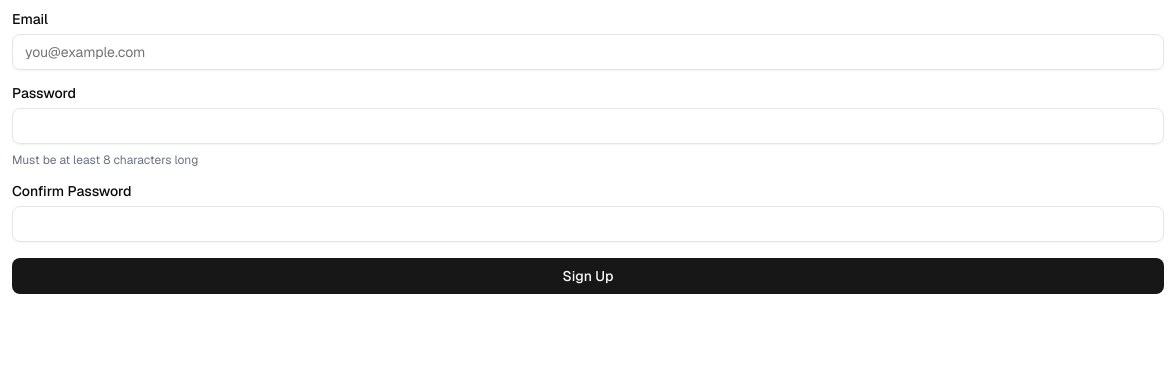
SignUpForm — error handling › displays server error on failure
In the password field labelled "Password": {"x": 588, "y": 126} left=12, top=108, right=1164, bottom=144, type "pass1234"
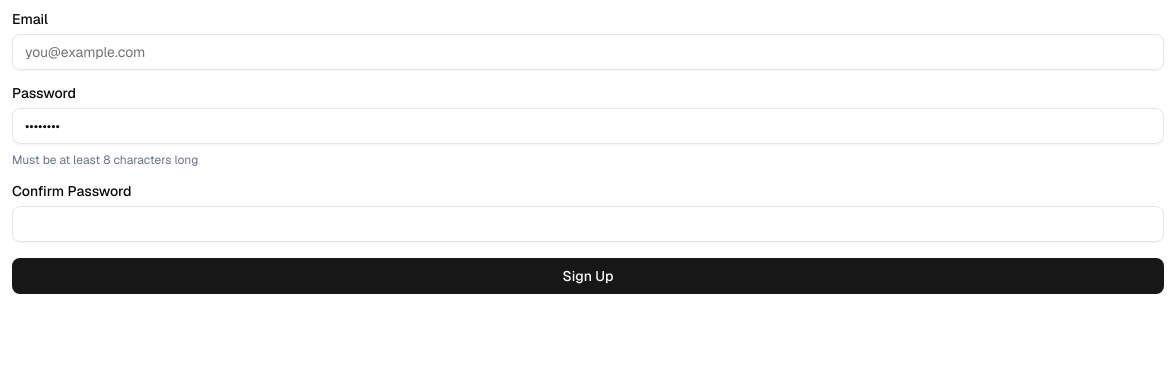
In the password field labelled "Confirm Password": {"x": 588, "y": 224} left=12, top=206, right=1164, bottom=242, type "pass1234"
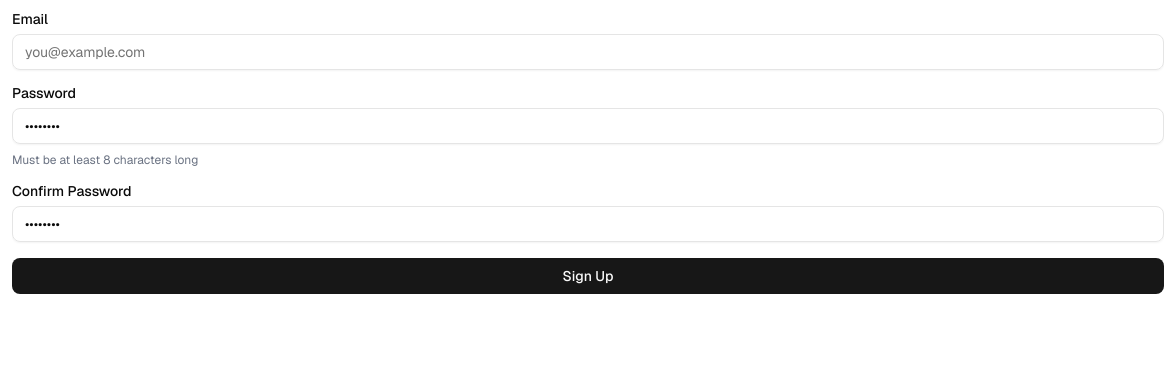
Submit the form labelled "Email"
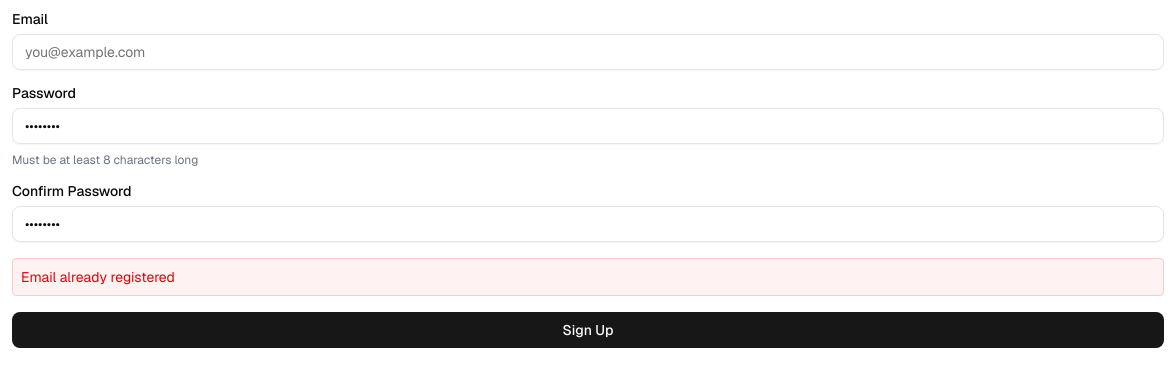
Check: the text "Email already registered" is shown, box left=12, top=258, right=1164, bottom=296
